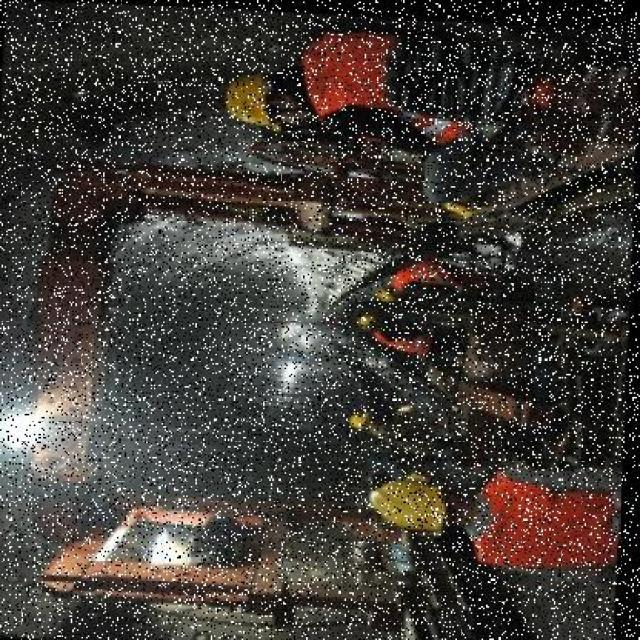helmet: (372, 463, 456, 525), (218, 69, 276, 121), (345, 404, 370, 426), (376, 283, 395, 302), (360, 306, 379, 322)
vest: (472, 460, 623, 572), (305, 26, 395, 120), (389, 254, 464, 288)
